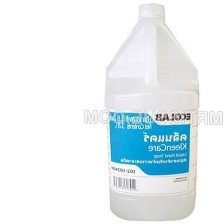cleaning_solution: (101, 0, 202, 224)
